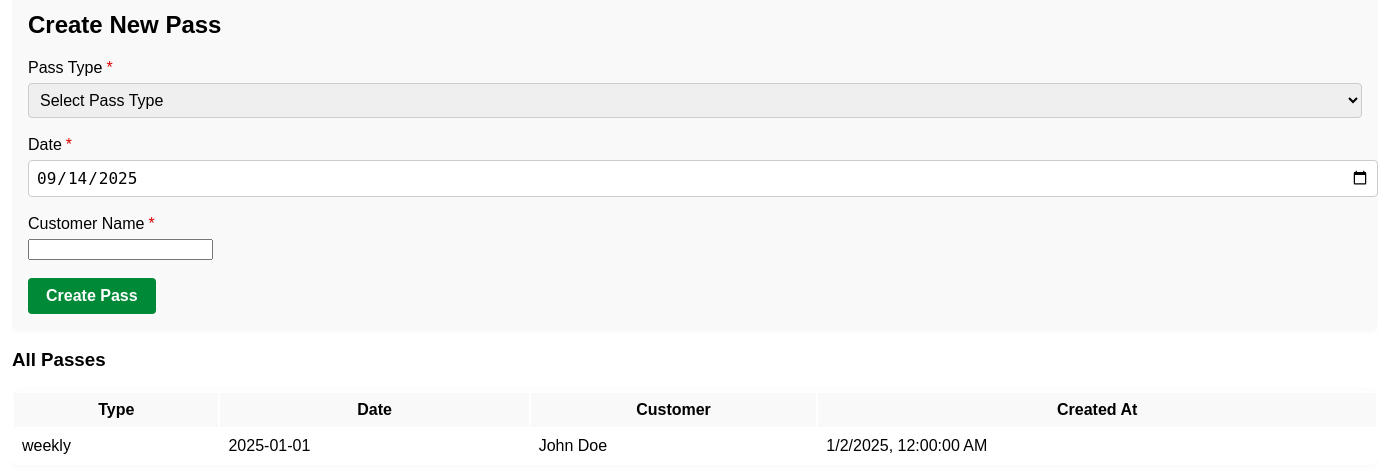
PassesPage (localStorage integration) › autocomplete shows matching suggestions (substring case-insensitive)
Type "ja" into the field labelled "Customer Name*" at (120, 249), box [28,239,213,260]
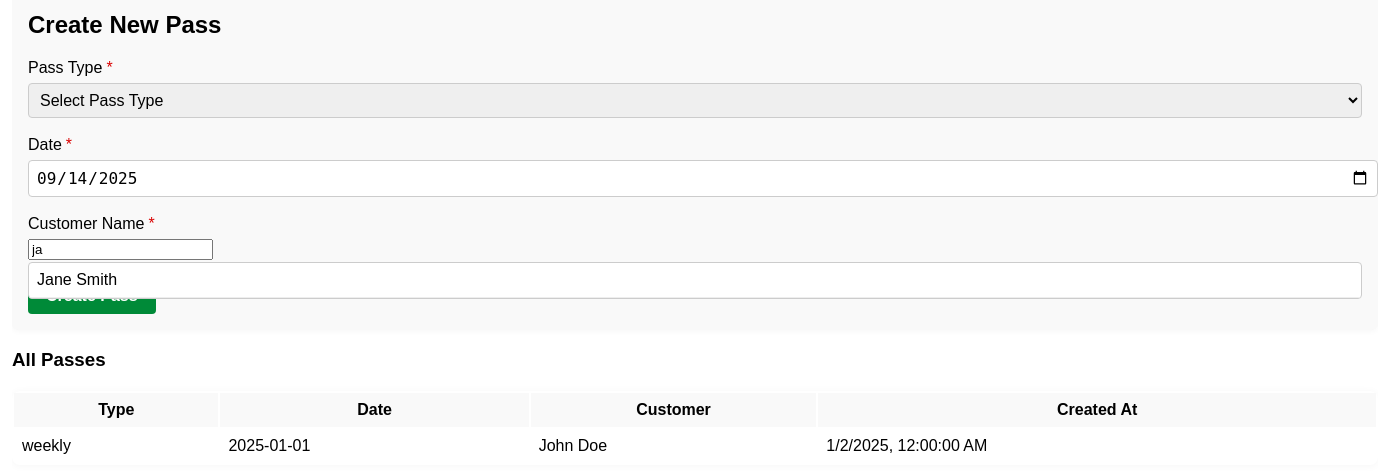
Check: the list item "Jane Smith" is shown, box [29,263,1361,298]
